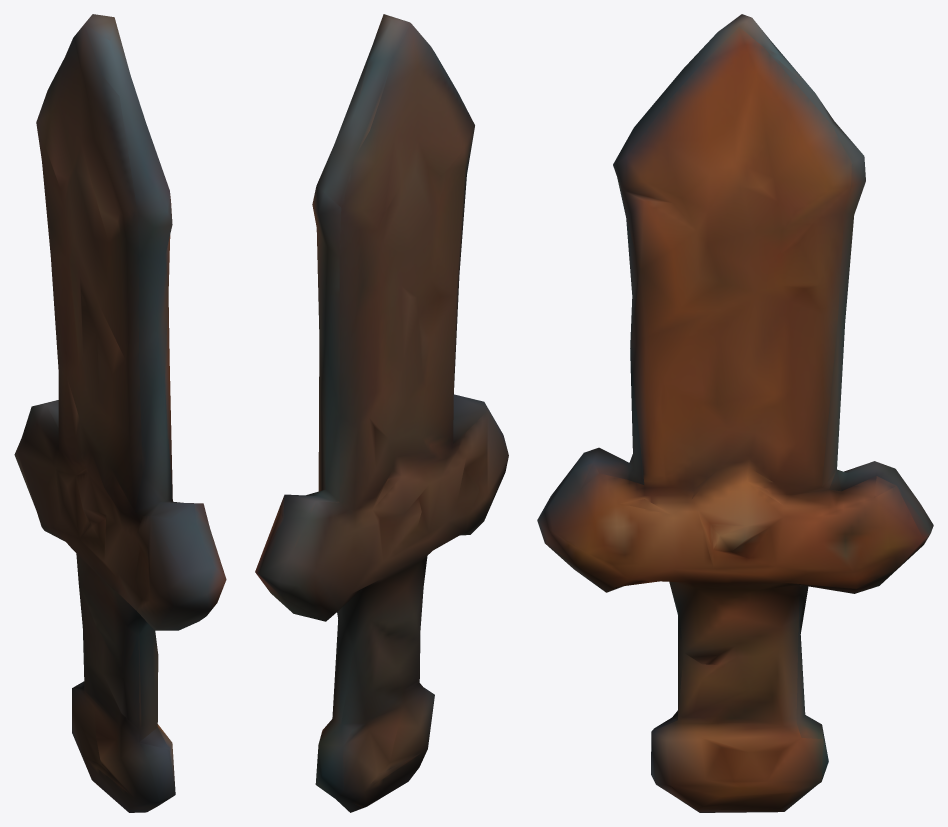
File: sword_copper.glb
3 views of the same model, side by side, from view 1: azimuth 30°, elevation 25°; view 2: azimuth 150°, elevation 25°; view 3: azimuth 270°, elevation 25° (orthographic).
Parts seen in each view (by area): view 1: model; view 2: model; view 3: model.
Boxes of the visible parts, x1,y1,x2,y2 form: model: (14,14,226,812); model: (255,14,508,812); model: (537,14,933,812).
Size of the model in its own units: 0.0797 by 0.7475 by 0.3436.
1 material, 1 textured.
